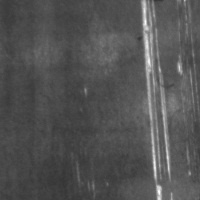scratches: (139, 1, 176, 200)
